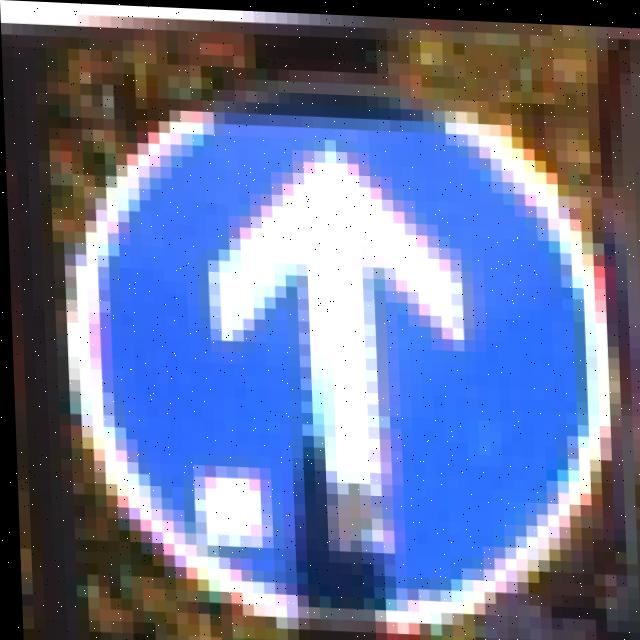compulsory_ahead: (89, 83, 622, 637)
